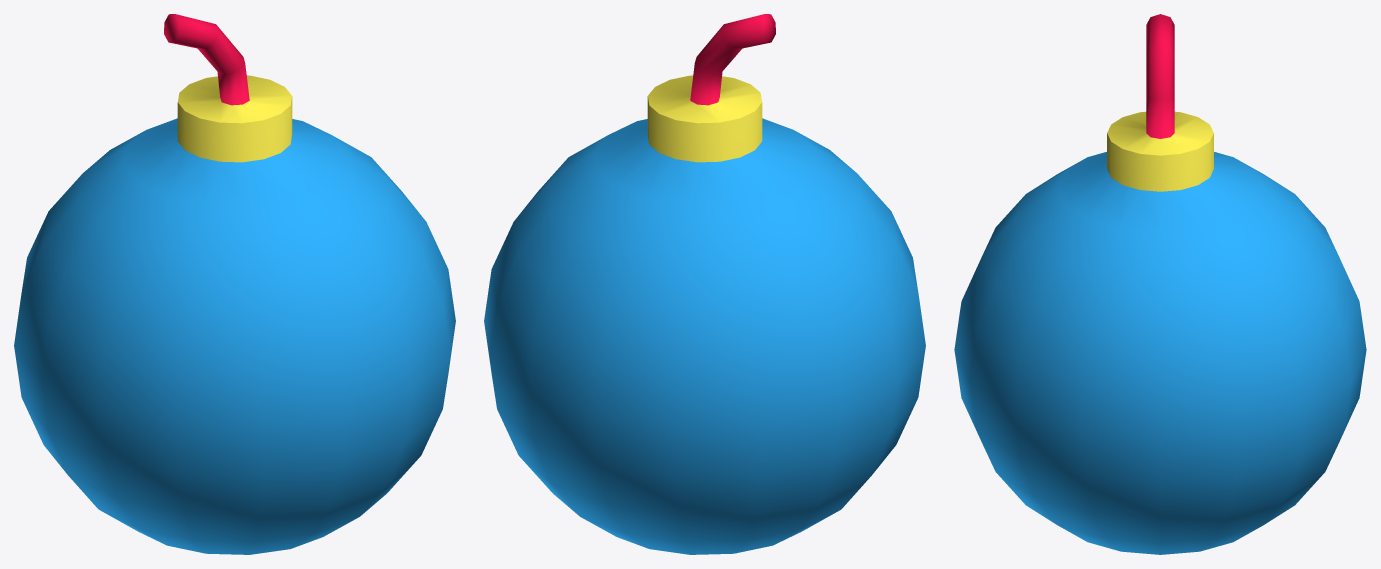
File: bomb.glb
3 views of the same model, side by side, from view 1: azimuth 30°, elevation 25°; view 2: azimuth 150°, elevation 25°; view 3: azimuth 270°, elevation 25° (orthographic). The views are drawn at different scales.
Parts seen in each view (by area): view 1: Bomb; view 2: Bomb; view 3: Bomb.
Boxes of the visible parts, <box> form: Bomb: <box>14,14,455,554</box>; Bomb: <box>484,14,925,554</box>; Bomb: <box>954,14,1366,554</box>.
Size of the model in its own units: 0.7812 by 1.04 by 0.7812.
Materials: 1 (1 with a texture image).
